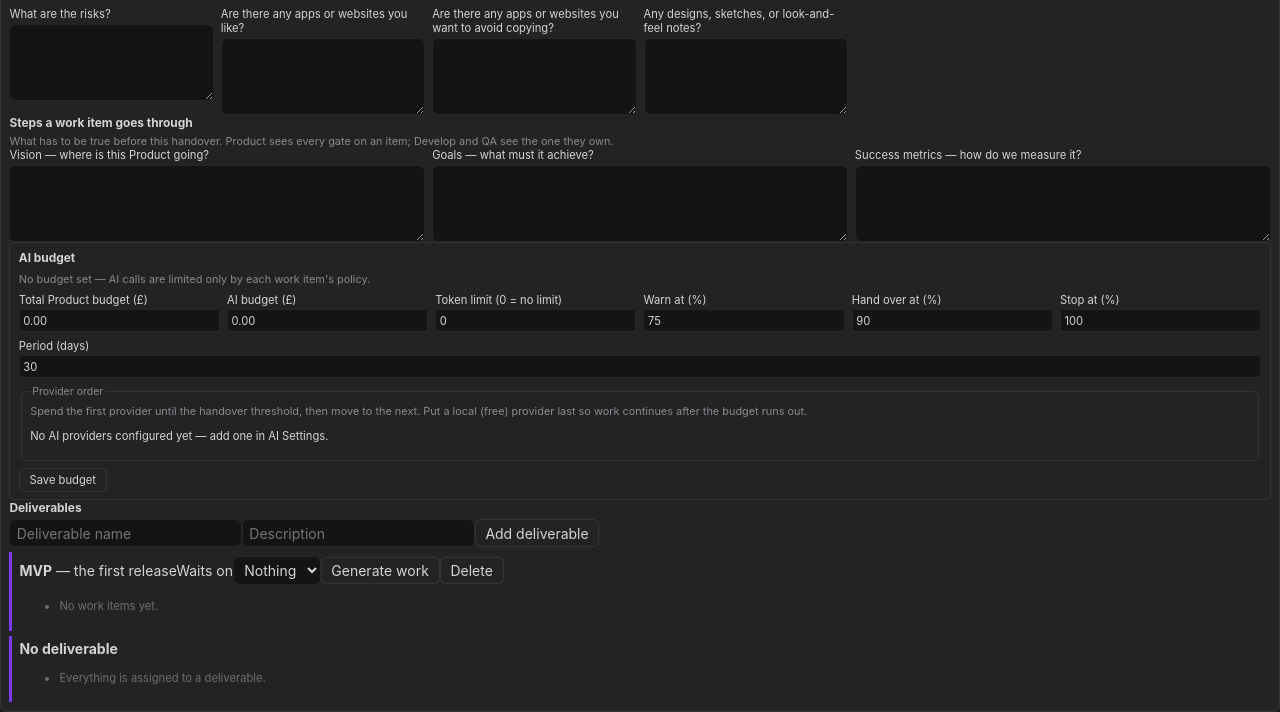
ProductStrategy — generating the work for a Deliverable › names the provider that ran the generation, so a handover is not silent
(page scrolled)
What coordinates should you click on to do the following:
click the button with aria-label "Generate work for MVP"
I would click on:
 (380, 570)
Its box is [320, 557, 440, 584].
(page scrolled)
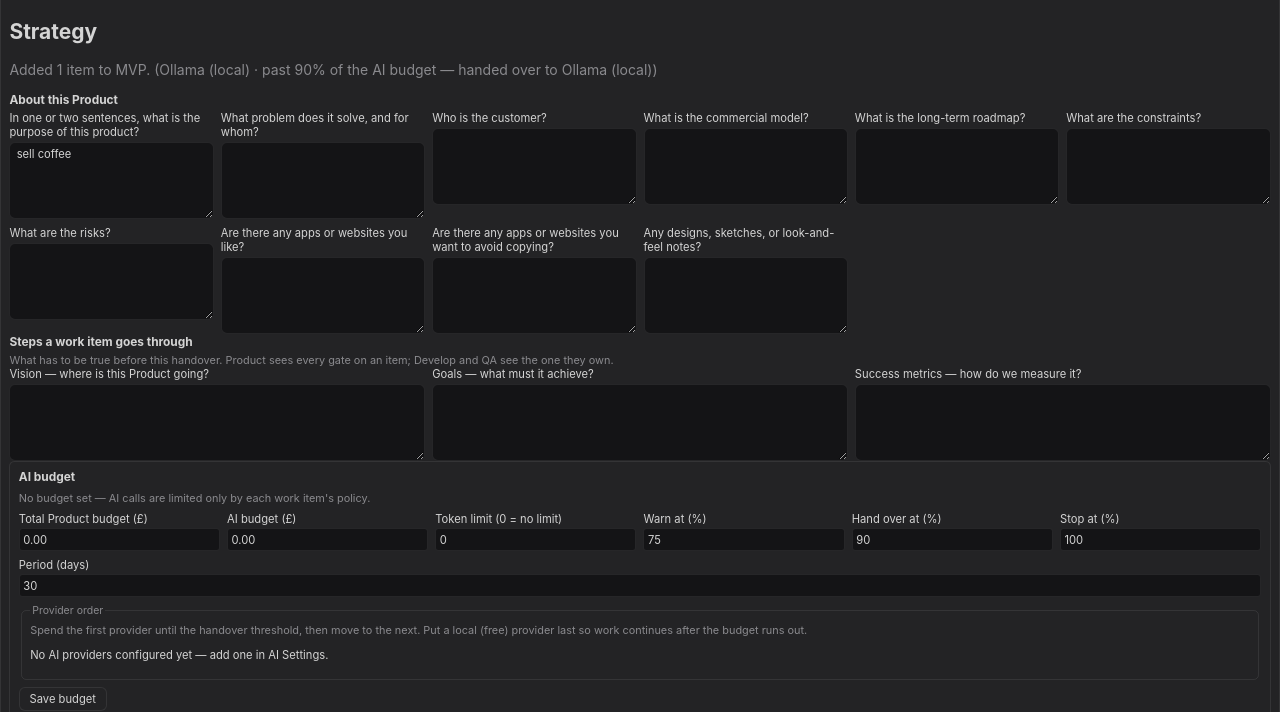
Now the message shows "Ollama (local)", box [9, 61, 658, 78]
Now the message shows "handed over", box [9, 61, 658, 78]
